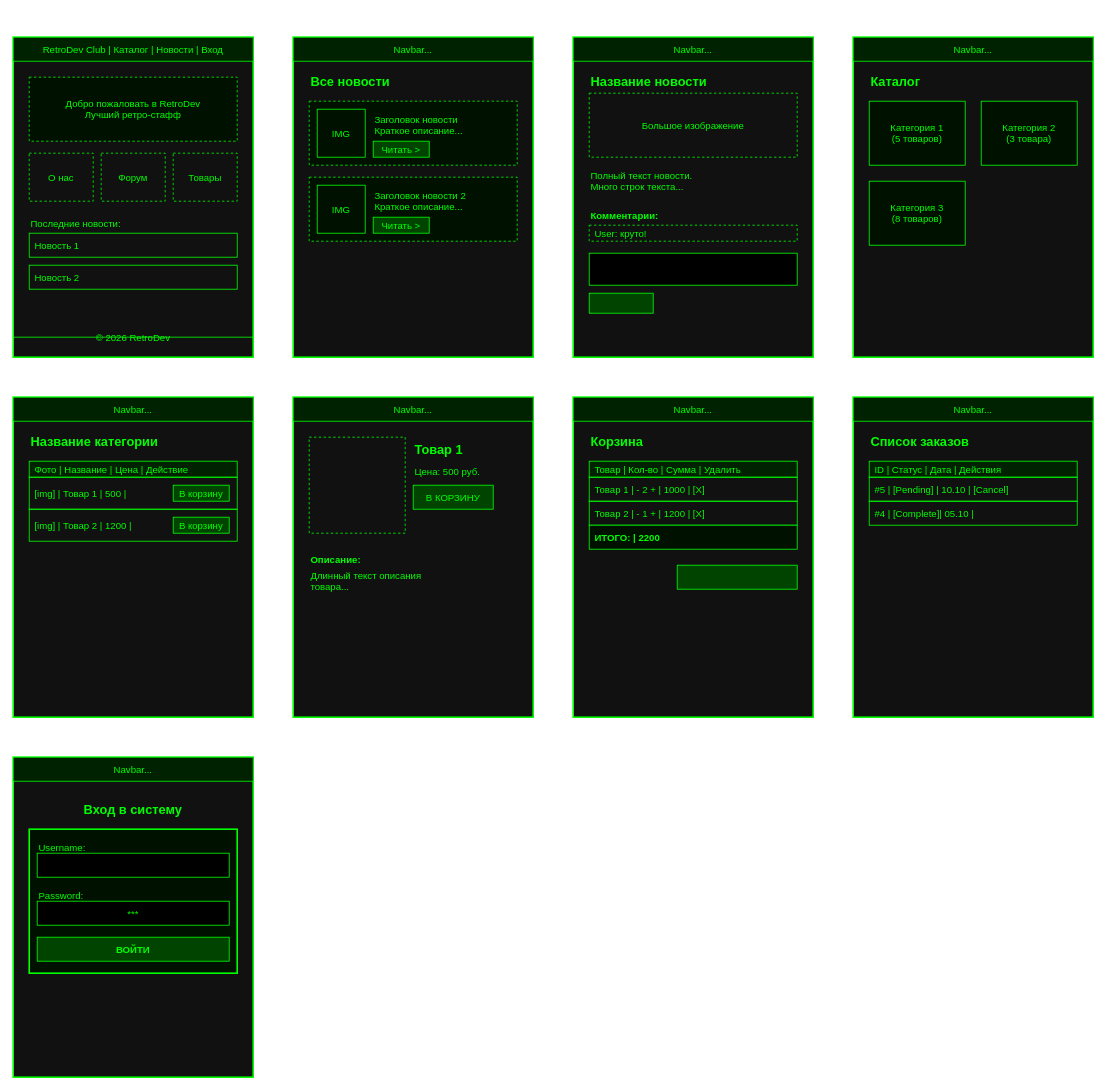
Some shapes in this 1106 by 1090 pixel diagram are drawn without their labels. Each missing label, with the centre of its shape:
"Большое фото товара" goes at point 356,484.
"Отправить" goes at point 620,302.
"ОФОРМИТЬ ЗАКАЗ" goes at point 736,576.
"Текст комментария..." goes at point 692,268.
